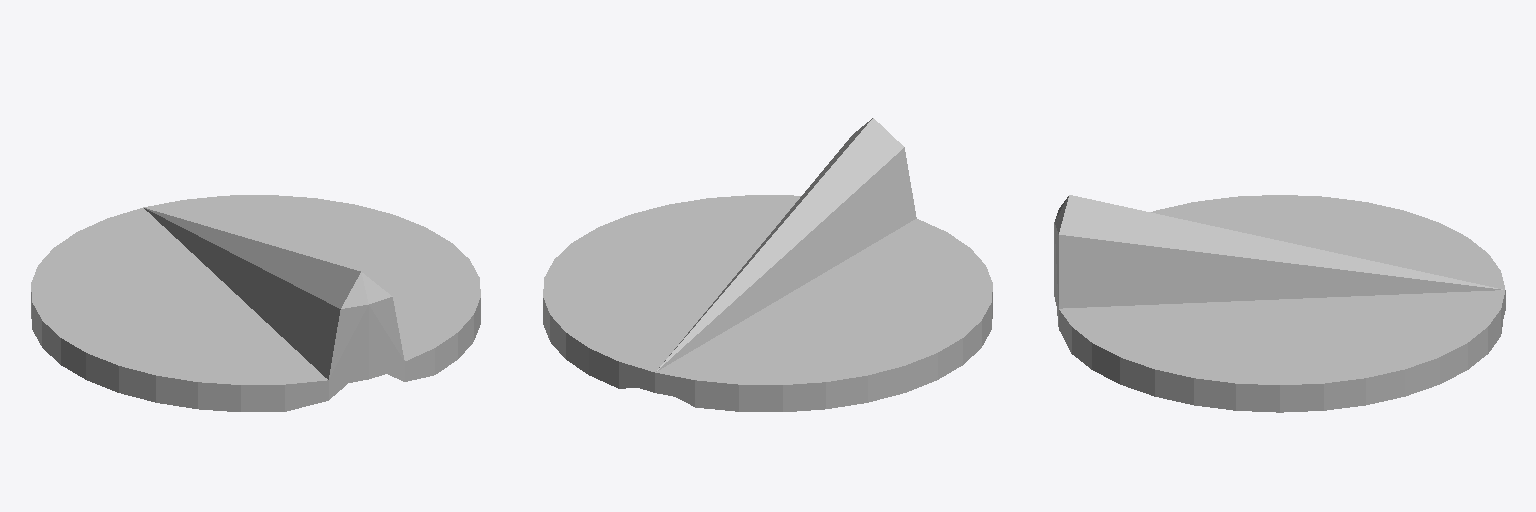
The model's file is drone_body.obj.
3 renders of one model, left to right at view 1: azimuth 30°, elevation 25°; view 2: azimuth 150°, elevation 25°; view 3: azimuth 270°, elevation 25°, orthographic.
Visible parts, largest first — view 1: body; view 2: body; view 3: body.
Part boxes in pixels (x1,y1,x2,y2): body: (31,195,480,411); body: (543,118,992,411); body: (1054,195,1505,412).
Bounding box in the file's own units: 0.3 × 0.09 × 0.3.